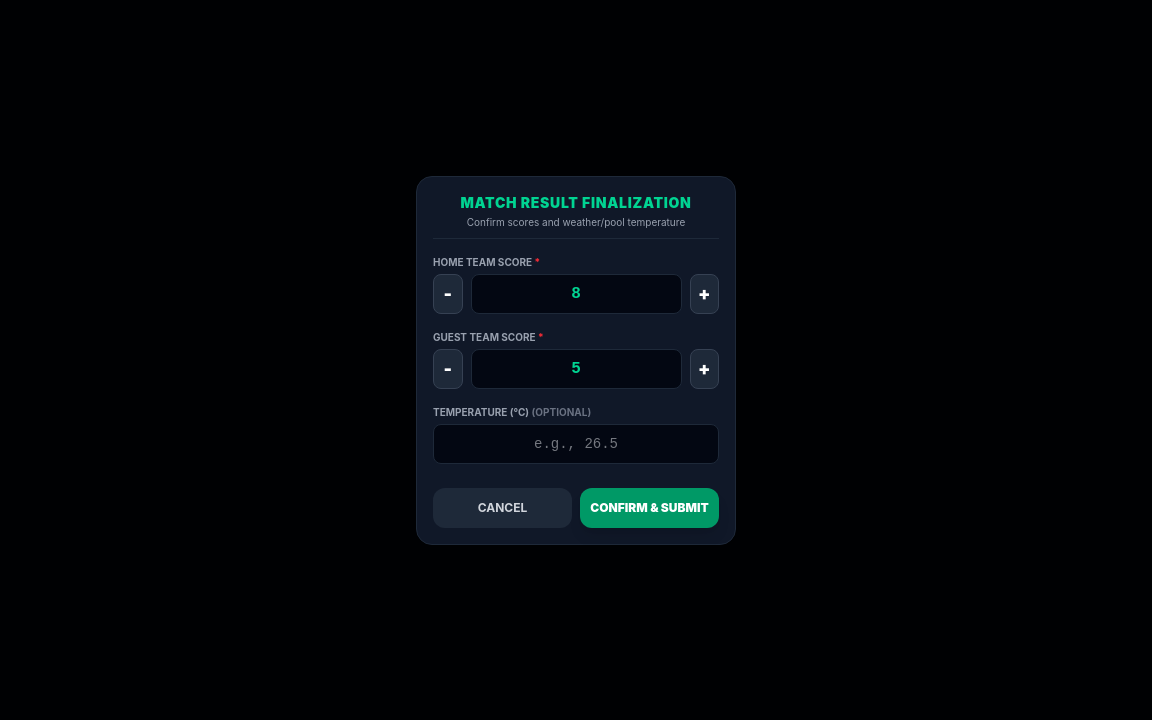
Test case: MatchResultModal Component › should display friendly timeout message when finalization request is aborted
Click the button "Confirm & Submit".
click(650, 508)  # box [580,488,719,528]
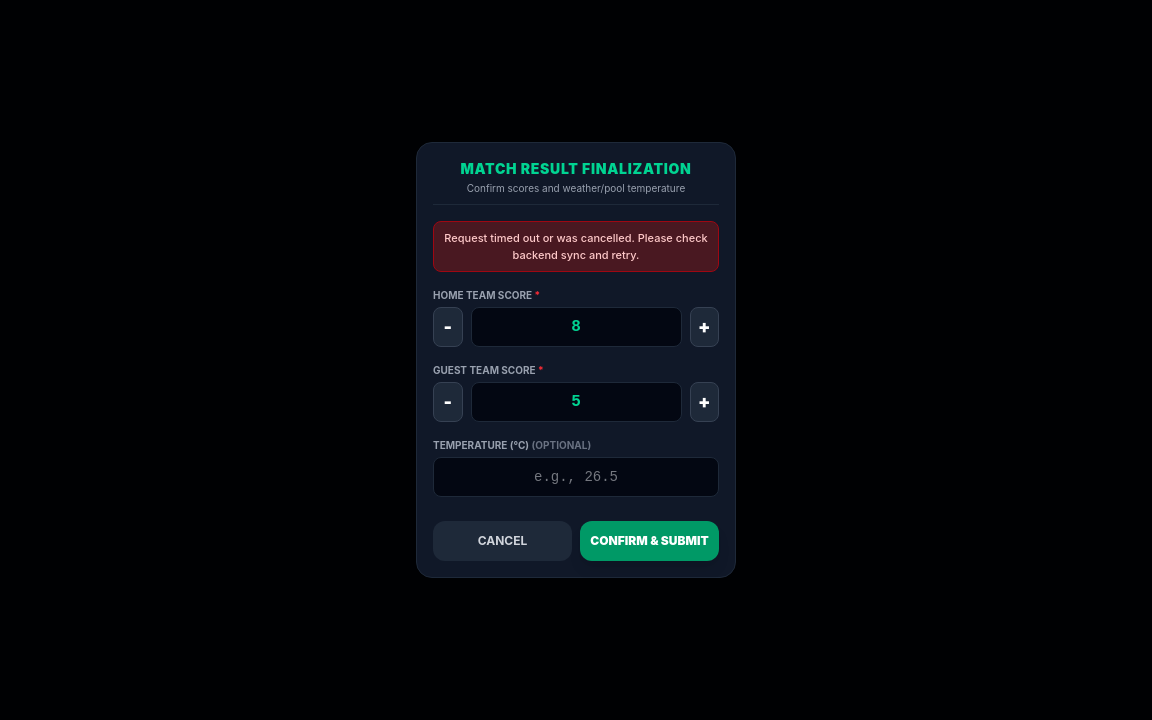
expect the message reads "Request timed out or was cancelled. Please check backend sync and retry.": met, box [444,231,708,262]
